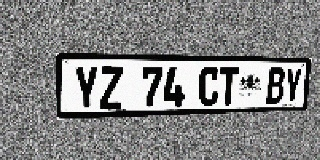4: (163, 67, 185, 107)
7: (141, 66, 163, 108)
B: (266, 67, 286, 104)
C: (198, 67, 219, 106)
T: (218, 67, 239, 105)
Y: (73, 66, 99, 110), (283, 68, 302, 103)
Z: (99, 66, 123, 109)
